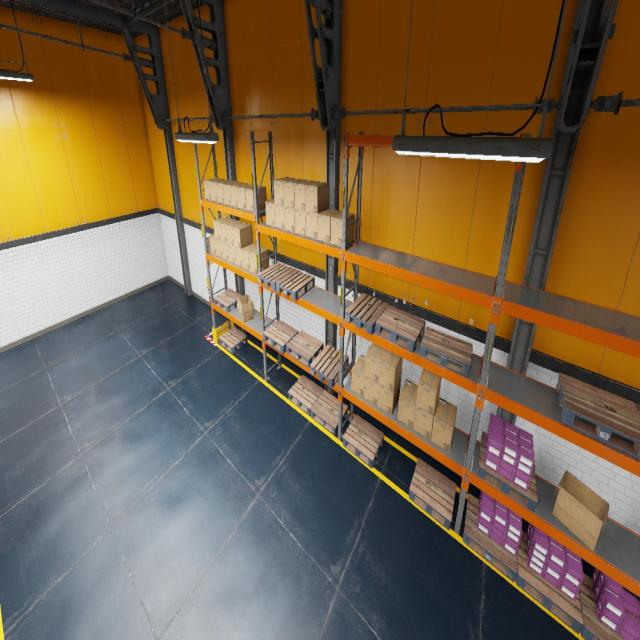box: (552, 471, 610, 551), (431, 397, 457, 453), (416, 368, 441, 416), (397, 379, 418, 429), (414, 399, 438, 440), (379, 350, 402, 392), (378, 376, 401, 416), (365, 342, 386, 383), (330, 212, 354, 247), (318, 208, 341, 244), (305, 182, 329, 214), (294, 180, 317, 211), (283, 178, 306, 208), (351, 354, 366, 398), (274, 177, 294, 206), (245, 186, 266, 212), (249, 247, 269, 274), (237, 183, 257, 210), (232, 223, 253, 248), (230, 182, 249, 208), (237, 294, 254, 322), (226, 220, 244, 246), (364, 376, 379, 406), (223, 181, 241, 206), (241, 243, 257, 271), (219, 219, 237, 243), (213, 216, 231, 240), (216, 180, 234, 204), (210, 179, 228, 202), (204, 178, 221, 200), (294, 208, 306, 236), (306, 212, 317, 240), (284, 207, 295, 233), (274, 204, 285, 230), (265, 199, 275, 227), (234, 247, 242, 267), (227, 244, 235, 264), (209, 234, 216, 255), (221, 241, 228, 261), (215, 238, 222, 258)
pallets: (556, 373, 640, 459), (516, 530, 583, 633), (477, 432, 538, 512), (463, 493, 517, 582), (578, 573, 640, 639), (409, 458, 456, 530), (420, 327, 472, 378), (375, 305, 425, 352), (342, 414, 383, 468), (345, 293, 389, 335), (310, 390, 348, 435), (310, 344, 348, 388), (288, 374, 323, 416), (286, 330, 323, 367), (263, 320, 298, 354), (276, 270, 314, 300), (257, 262, 295, 290), (219, 327, 247, 353), (214, 289, 242, 312), (636, 404, 640, 413)
